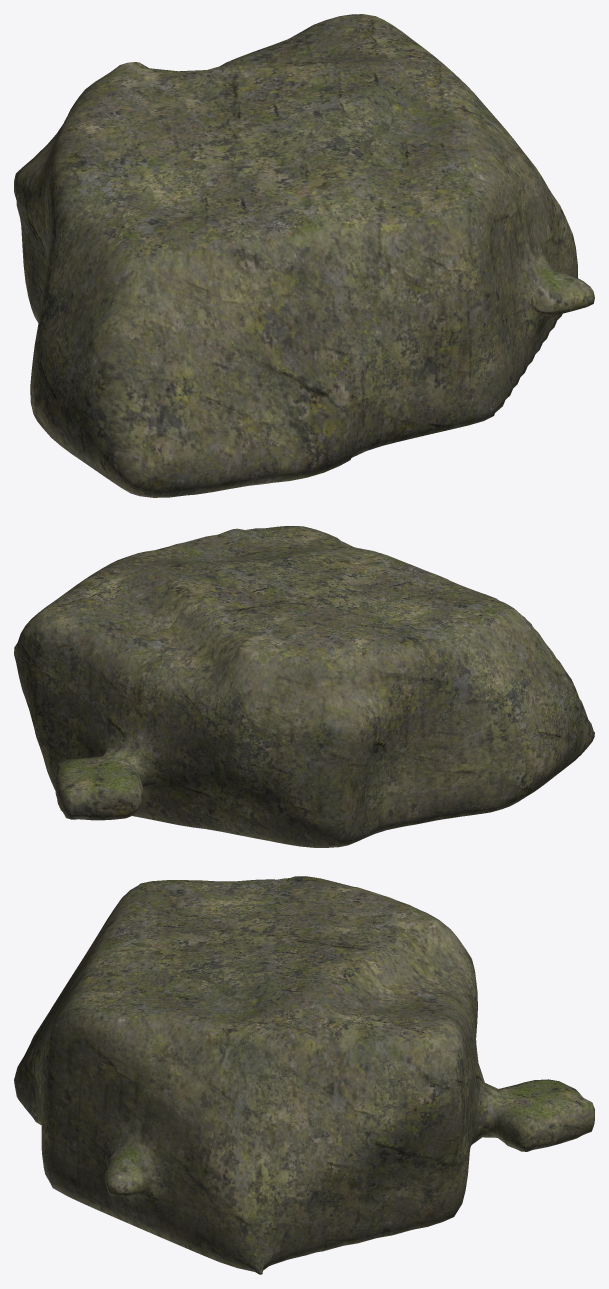
Rendered from rock_b.glb.
3 renders of one model, top to bottom at view 1: azimuth 30°, elevation 25°; view 2: azimuth 150°, elevation 25°; view 3: azimuth 270°, elevation 25°, orthographic. The views are drawn at different scales.
Visible parts, largest first — view 1: rock_b; view 2: rock_b; view 3: rock_b.
Boxes of the visible parts, x1,y1,x2,y2 form: rock_b: (14,14,594,497); rock_b: (14,526,594,847); rock_b: (14,876,594,1274).
Bounding box in the file's own units: 10.16 × 4.24 × 10.01.
Materials: 1 (1 with a texture image).
